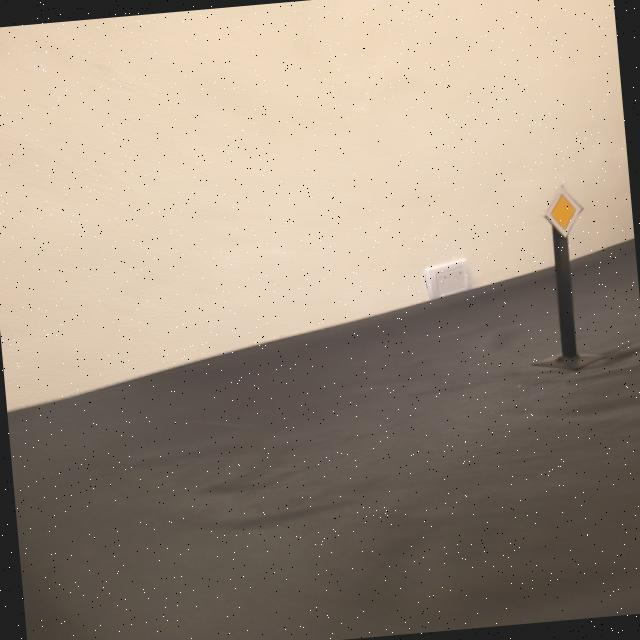priority: (540, 182, 586, 239)
